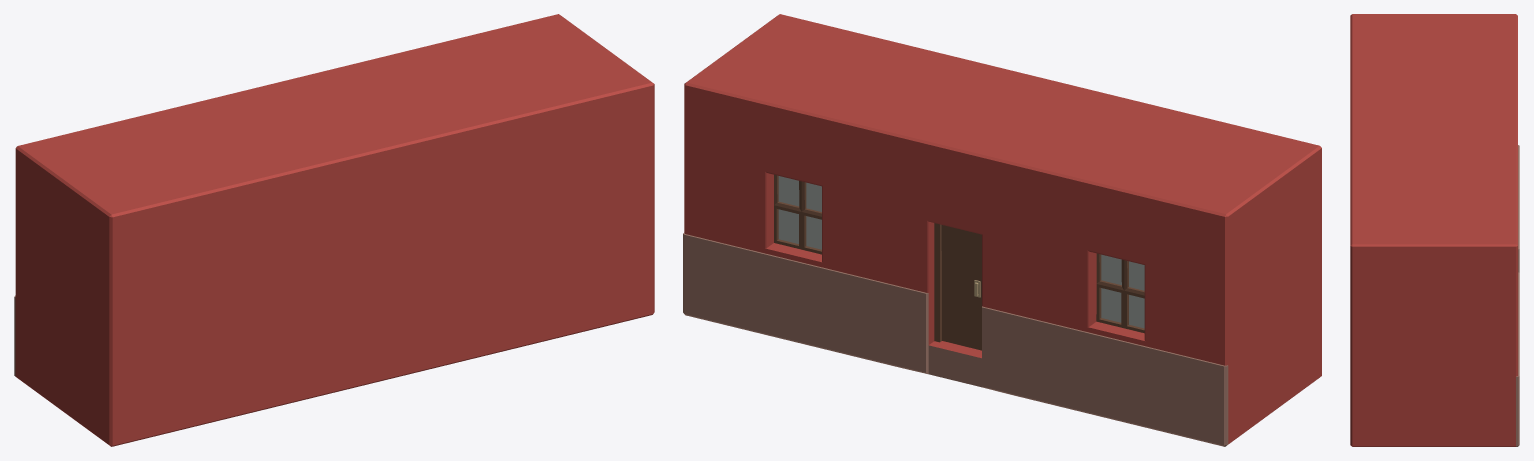
The model's file is Edificio_Mediano02.fbx.
The picture shows the model from 3 angles, left to right: view 1: azimuth 30°, elevation 25°; view 2: azimuth 150°, elevation 25°; view 3: azimuth 270°, elevation 25°; orthographic projection. The views are drawn at different scales.
Parts seen in each view (by area): view 1: WallModule.003; view 2: WallModule.003; view 3: WallModule.003.
Part boxes in pixels (x1=…): WallModule.003: x1=14, y1=14, x2=654, y2=446; WallModule.003: x1=683, y1=14, x2=1321, y2=446; WallModule.003: x1=1350, y1=14, x2=1519, y2=446.
Bounding box in the file's own units: 981 × 400 × 303.
